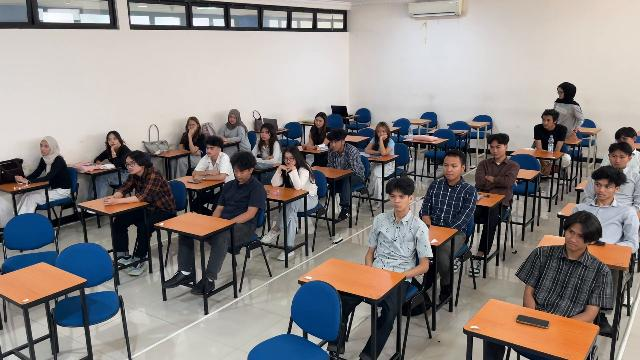fokus: (565, 225, 586, 251), (594, 179, 617, 199), (443, 158, 459, 181), (389, 189, 407, 209), (610, 151, 626, 168), (232, 167, 248, 181), (126, 158, 138, 174), (206, 144, 219, 158), (490, 143, 502, 158), (617, 135, 633, 146), (108, 135, 120, 148), (284, 153, 295, 167), (41, 141, 50, 156), (330, 140, 342, 151), (261, 128, 271, 140), (377, 127, 387, 139), (188, 119, 197, 131), (229, 113, 237, 124), (315, 116, 323, 127)
